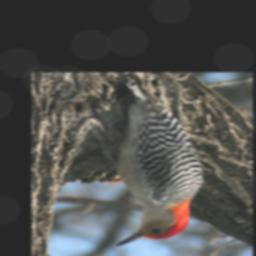Woodpecker: (97, 75, 206, 248)
